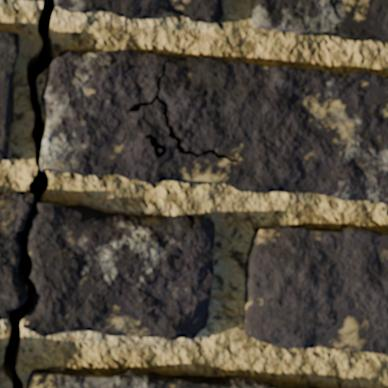brick: (41, 49, 387, 203), (244, 226, 387, 354), (27, 367, 316, 387), (252, 0, 387, 42), (0, 32, 18, 159)
broken_brick: (22, 202, 215, 340), (0, 190, 32, 320), (57, 0, 223, 23), (19, 0, 42, 1)
crack: (1, 0, 56, 387), (328, 0, 339, 16)
